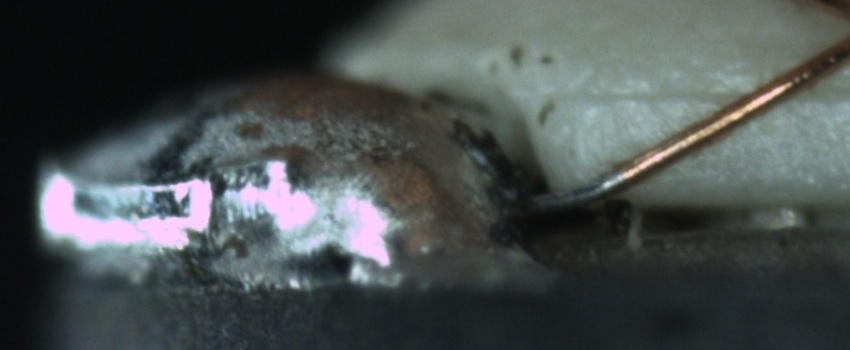DL: (565, 59, 850, 128)
TS: (525, 166, 620, 214)
